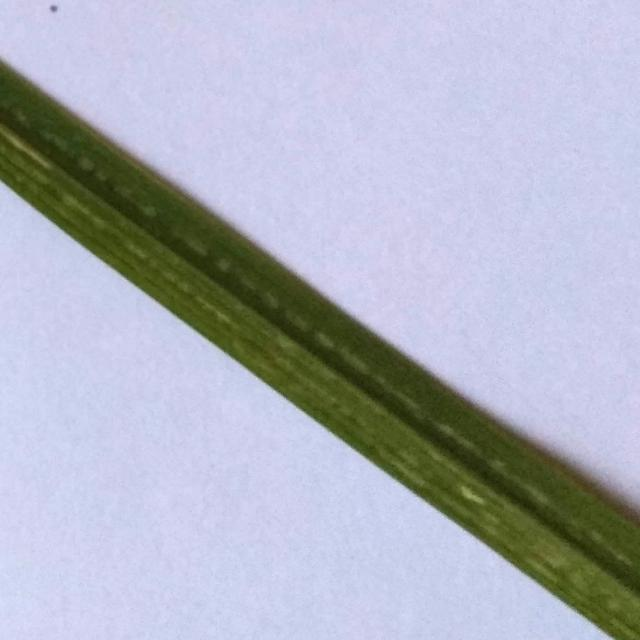Rice_Healthy: (0, 60, 640, 640)
